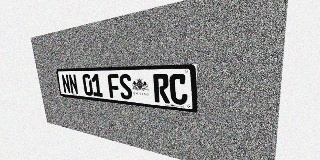0: (82, 74, 93, 96)
1: (91, 74, 103, 97)
C: (169, 74, 188, 105)
F: (107, 74, 121, 99)
N: (68, 74, 79, 95), (61, 74, 71, 94)
R: (153, 74, 170, 104)
S: (118, 74, 133, 100)
